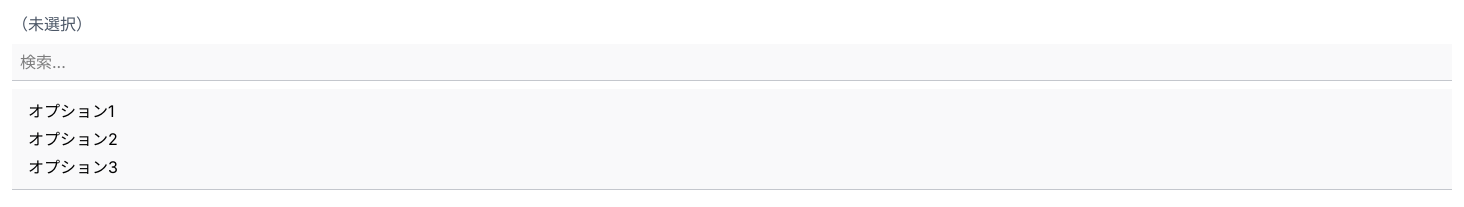
Test: SelectableSearch › 該当なし時のメッセージが表示される
Type "存在しない" into the field with placeholder "検索..." at (732, 62), box [12,44,1452,81]
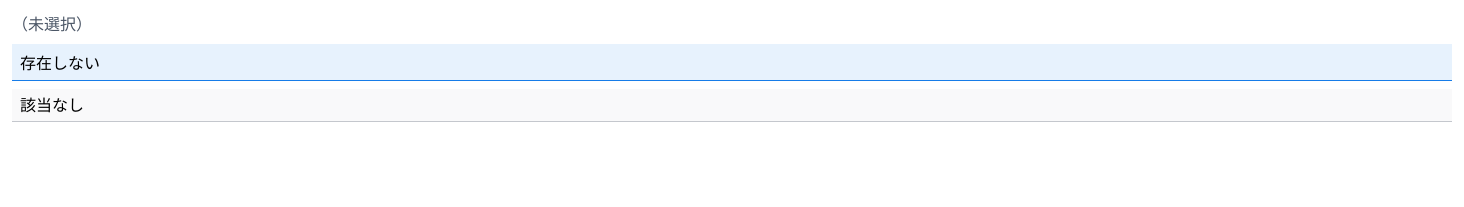
Expected: the text "該当なし" is shown, [20,95,84,115]
